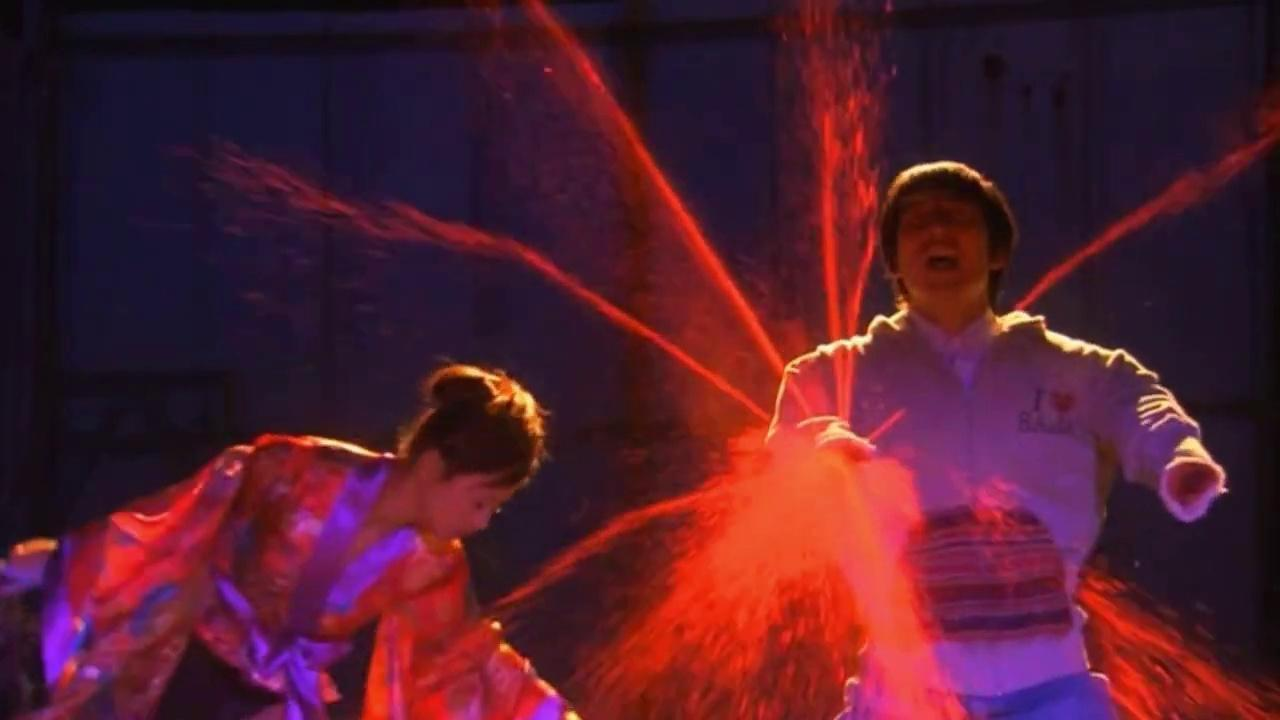Fire: (10, 338, 1280, 719), (198, 2, 785, 422), (888, 88, 1280, 384), (800, 3, 888, 336)
